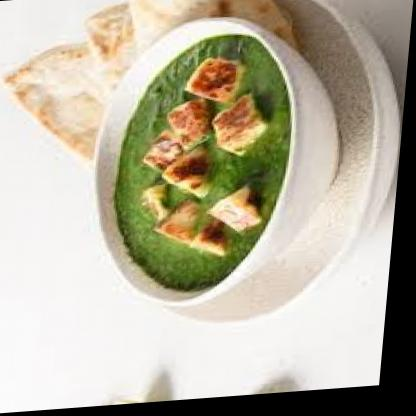palak_paneer: (112, 33, 302, 298)
